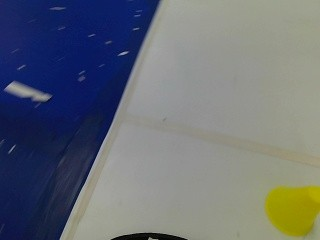cone: (258, 169, 318, 239)
